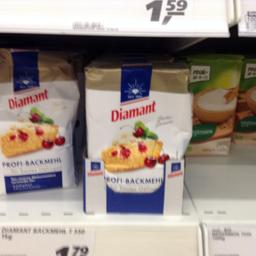flour: (84, 66, 190, 215), (0, 48, 79, 194)
